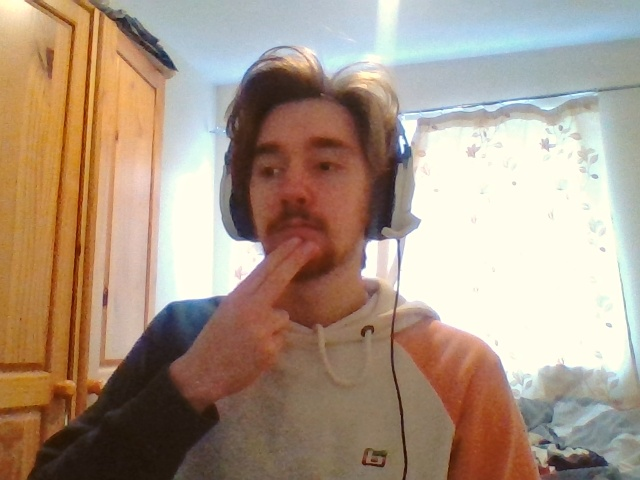afternoon: (176, 238, 319, 383)
